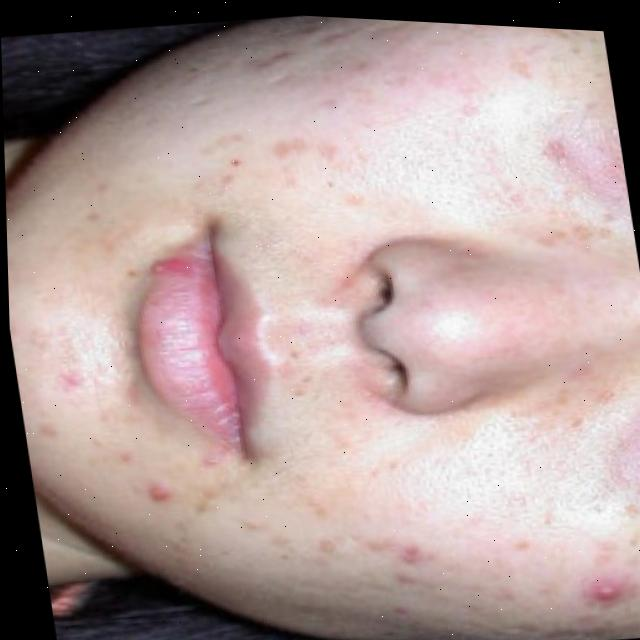Acne: (199, 10, 633, 279), (128, 418, 640, 640), (9, 309, 116, 462)
